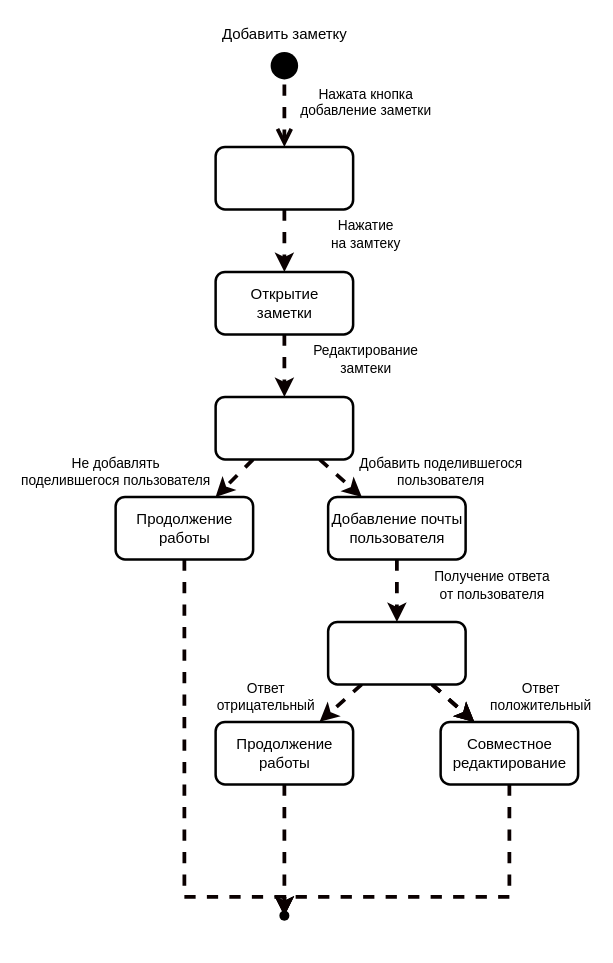
Some shapes in this 613 by 963 pixel diagram are drawn without their labels. The centre of each missing label's shape, as x and y in pixels:
"Заметка добавлена" belongs at (284,177).
"Заметка отредактирована" belongs at (284,427).
"Принятия ответа от пользователя" belongs at (396,652).
